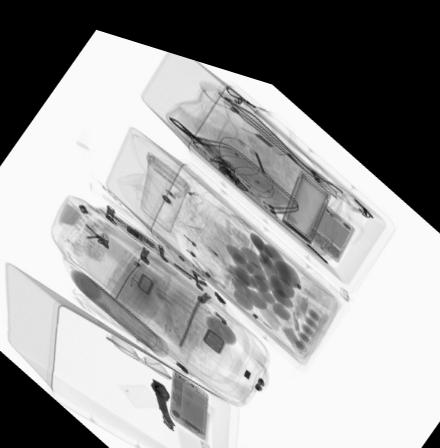Lighter: (213, 144, 250, 174)
